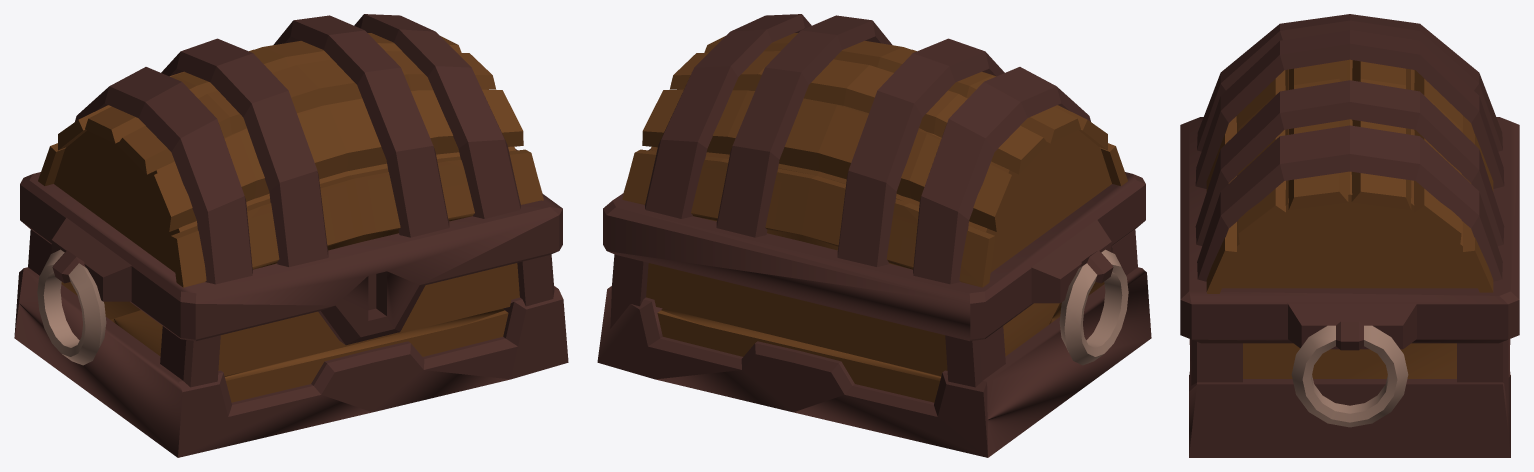
The model's file is Prop_Chest_Closed.gltf.
3 renders of one model, left to right at view 1: azimuth 30°, elevation 25°; view 2: azimuth 150°, elevation 25°; view 3: azimuth 270°, elevation 25°, orthographic.
Parts seen in each view (by area): view 1: Prop_Chest_Closed; view 2: Prop_Chest_Closed; view 3: Prop_Chest_Closed.
Boxes of the visible parts, x1=… form: Prop_Chest_Closed: x1=14, y1=14, x2=568, y2=457; Prop_Chest_Closed: x1=597, y1=14, x2=1151, y2=457; Prop_Chest_Closed: x1=1180, y1=14, x2=1519, y2=457.
Bounding box in the file's own units: 1.39 × 0.8792 × 0.8873.
Materials: 1 (1 with a texture image).
